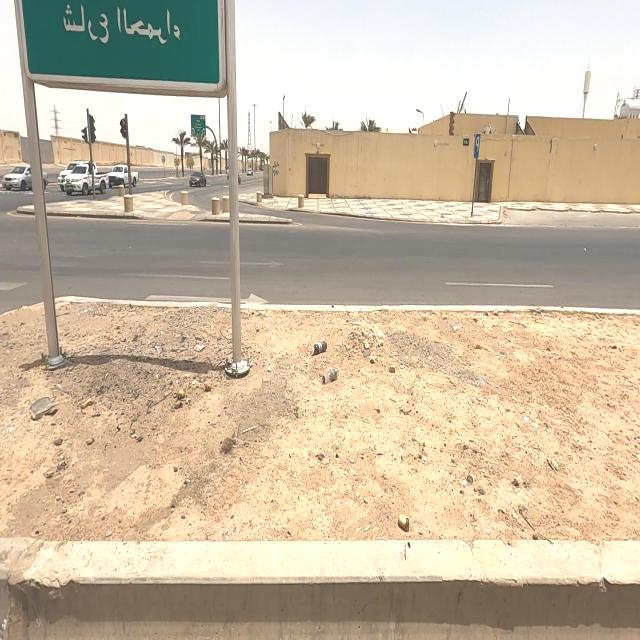debris: (143, 348, 250, 432), (377, 468, 442, 569), (290, 345, 356, 408), (207, 400, 254, 480), (295, 322, 342, 368)
